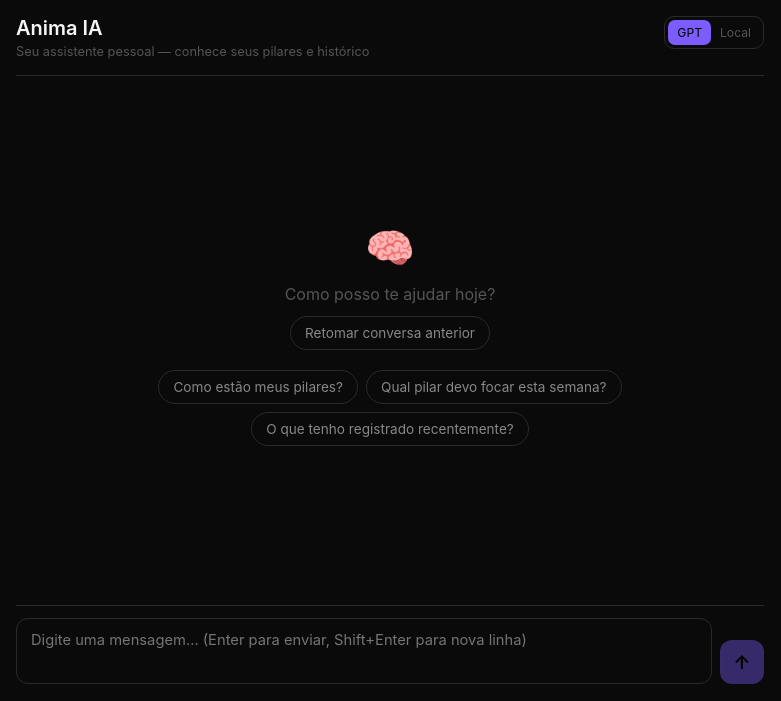
Test: correção 3 — turno órfão e retry idempotente › falha no chat mantém a mensagem do usuário e oferece retry (sem silêncio)
Replace the text in the text box with "minha pergunta" at (364, 651), box [16, 618, 712, 684]
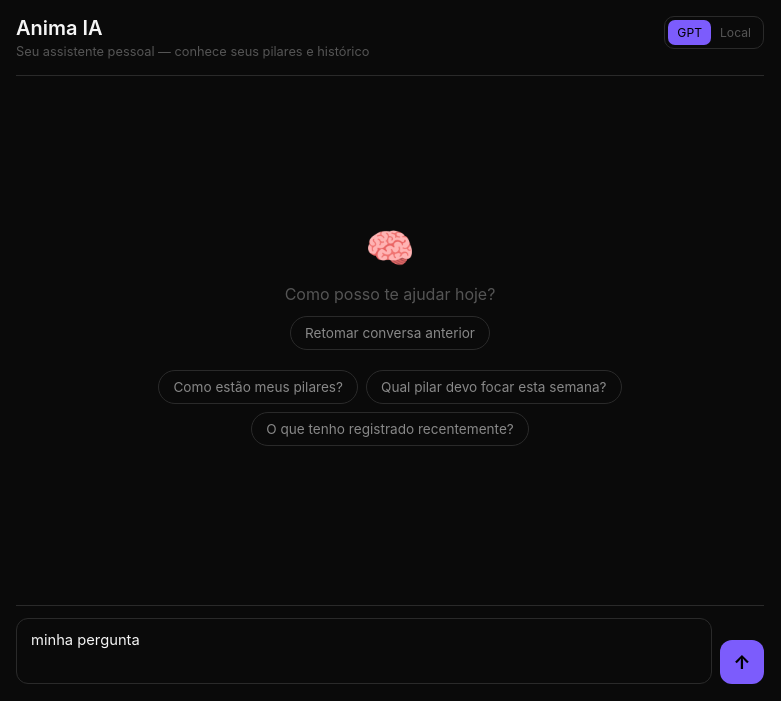
Click the button "↑" at (742, 662), box [720, 640, 764, 684]
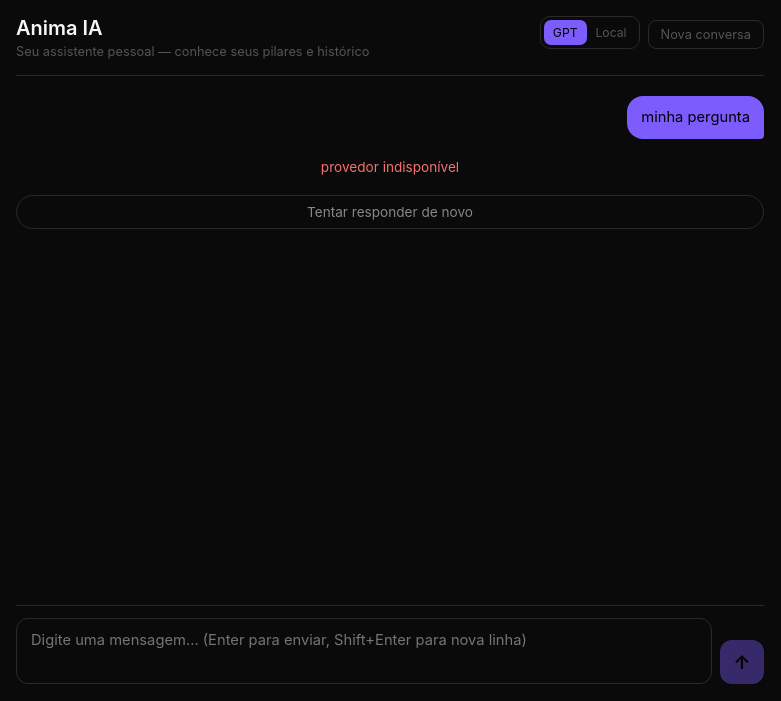
Now the text "minha pergunta" is shown, box [627, 96, 764, 139]
Now the button with aria-label "Tentar responder novamente" is shown, box [16, 195, 764, 229]
